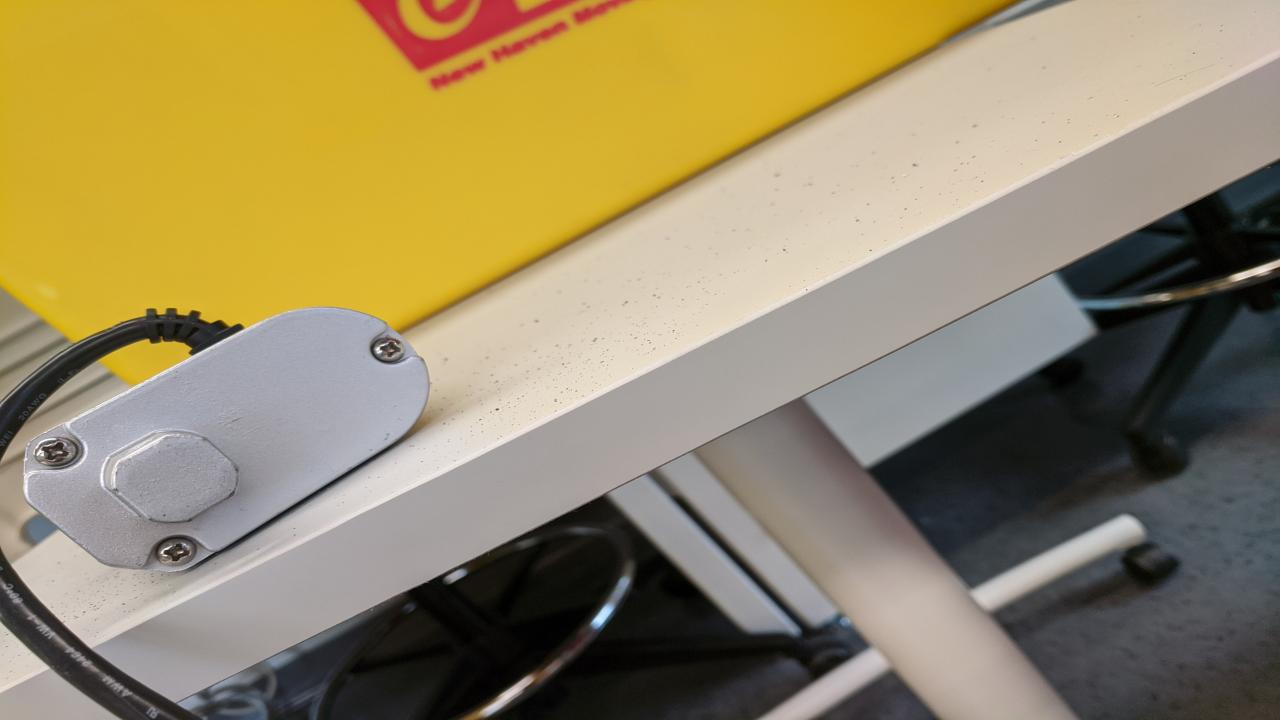CRS: (26, 436, 78, 468), (156, 536, 200, 568), (367, 333, 410, 364)
